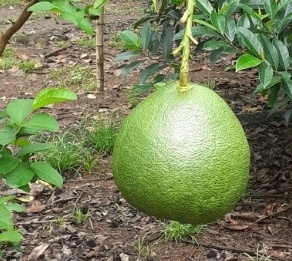Buoi: (99, 83, 259, 229)
